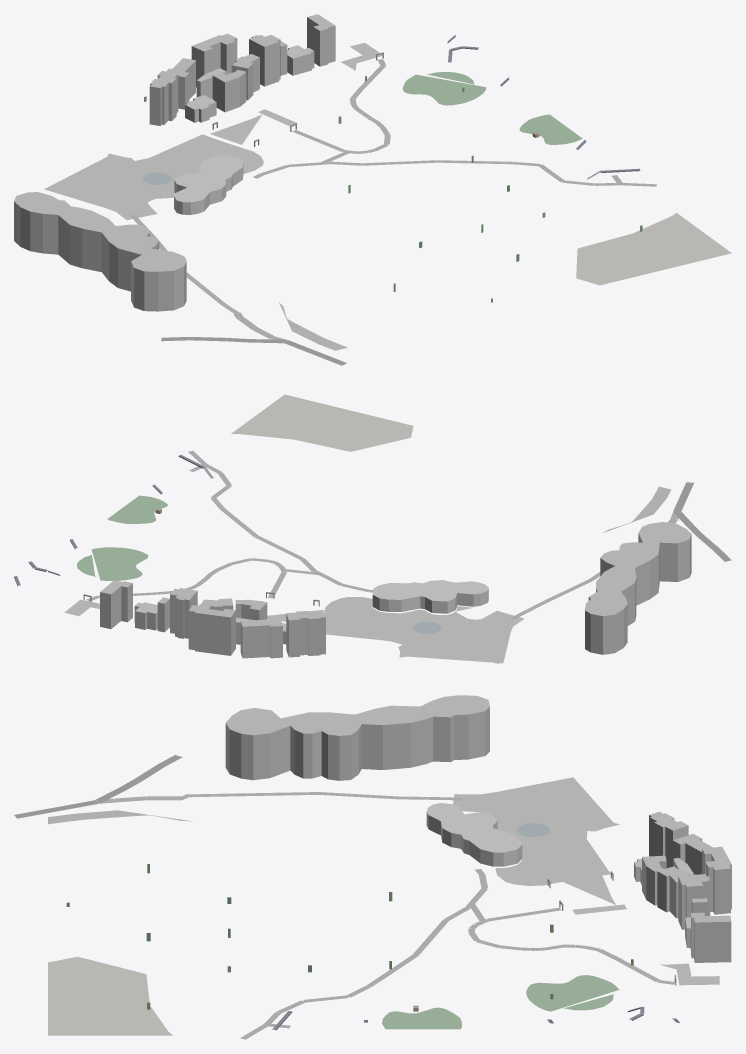
3 renders of one model, top to bottom at view 1: azimuth 30°, elevation 25°; view 2: azimuth 150°, elevation 25°; view 3: azimuth 270°, elevation 25°, orthographic. The views are drawn at different scales.
Size of the model in its own units: 527 by 48.44 by 534.
